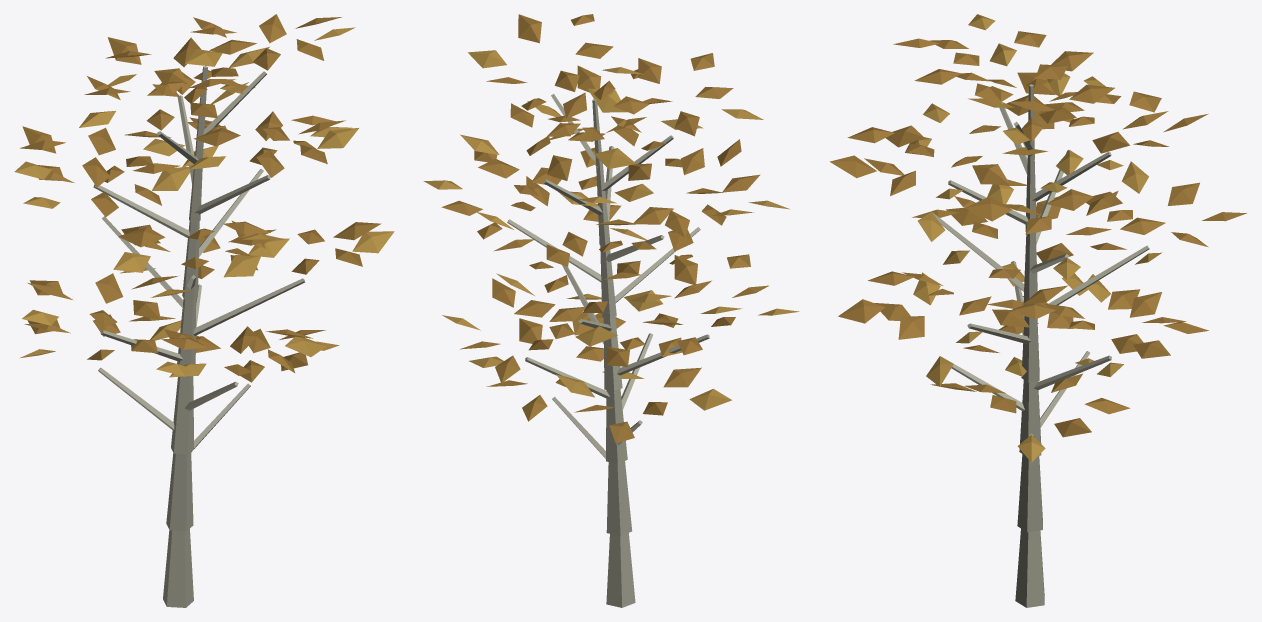
File: birch_amber_lod.glb
The picture shows the model from 3 angles, left to right: view 1: azimuth 30°, elevation 25°; view 2: azimuth 150°, elevation 25°; view 3: azimuth 270°, elevation 25°; orthographic projection. The views are drawn at different scales.
Parts seen in each view (by area): view 1: birch_amber_lod; view 2: birch_amber_lod; view 3: birch_amber_lod.
Part boxes in pixels (x1,y1,x2,y2): birch_amber_lod: (14,14,394,607); birch_amber_lod: (423,14,799,607); birch_amber_lod: (830,14,1246,607).
Size of the model in its own units: 2.54 by 3.79 by 2.51.
